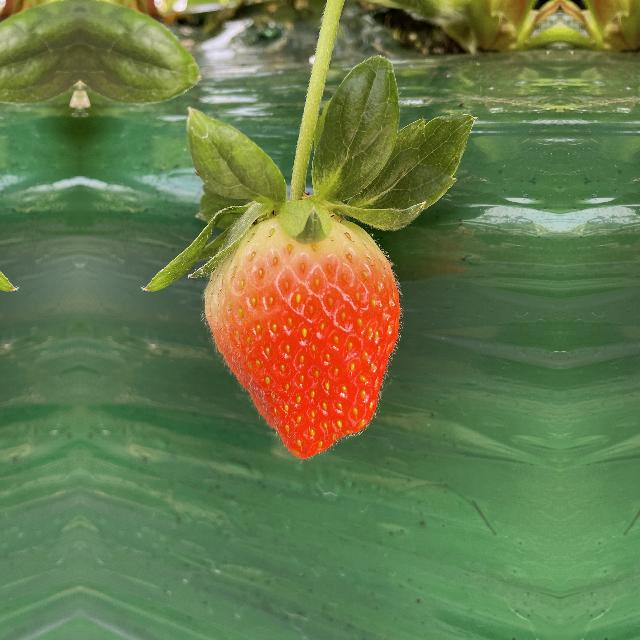Health_100: (186, 204, 424, 462)
